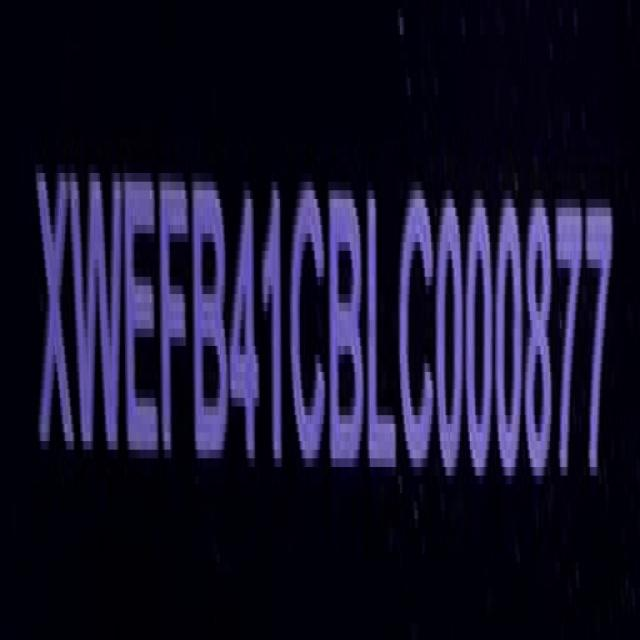0: (437, 188, 465, 482), (467, 186, 494, 478), (497, 191, 524, 482)
1: (261, 173, 286, 479)
4: (229, 179, 259, 478)
7: (589, 191, 617, 487), (555, 190, 581, 488)
8: (525, 192, 553, 484)
B: (193, 172, 230, 474), (329, 178, 365, 480)
C: (290, 175, 328, 479), (399, 185, 436, 483)
E: (126, 171, 160, 470)
F: (161, 170, 192, 472)
L: (368, 181, 397, 480)
W: (72, 161, 125, 465)
X: (37, 158, 73, 462)
